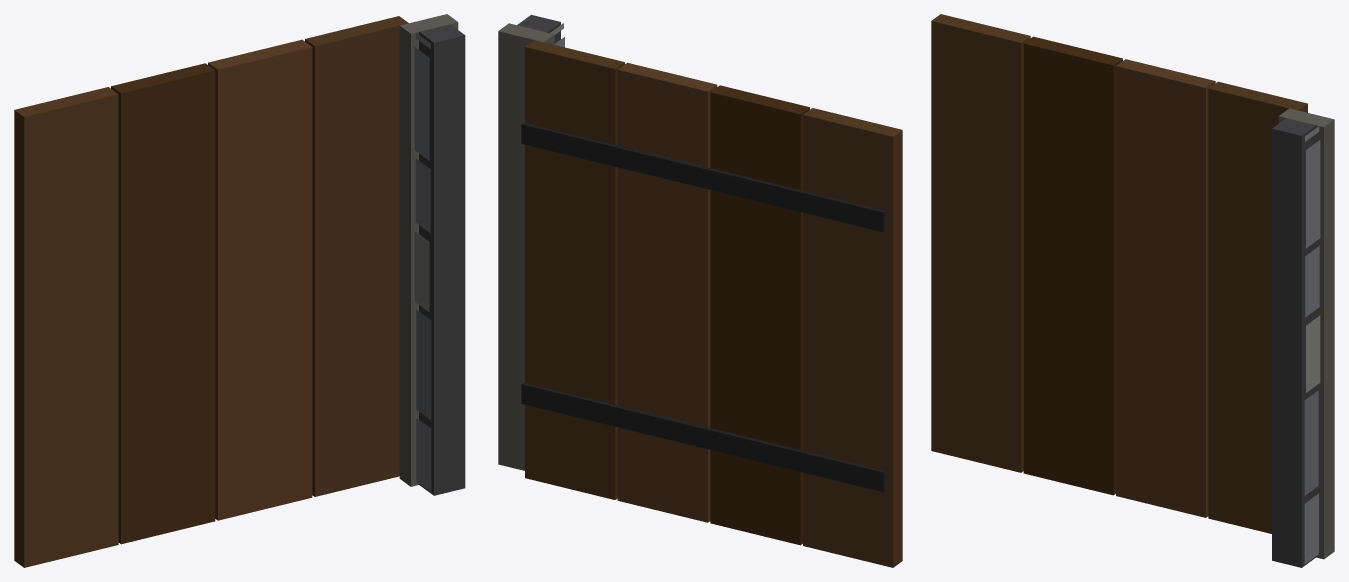
File: wall-stone-door-open-low-r.glb
The picture shows the model from 3 angles, left to right: view 1: azimuth 30°, elevation 25°; view 2: azimuth 150°, elevation 25°; view 3: azimuth 330°, elevation 25°; orthographic projection. The views are drawn at different scales.
Parts seen in each view (by area): view 1: wall-stone-door-open-low-r; view 2: wall-stone-door-open-low-r; view 3: wall-stone-door-open-low-r.
Boxes of the visible parts, x1=… form: wall-stone-door-open-low-r: x1=14, y1=14, x2=465, y2=567; wall-stone-door-open-low-r: x1=498, y1=14, x2=902, y2=567; wall-stone-door-open-low-r: x1=931, y1=14, x2=1334, y2=567.
Bounding box in the file's own units: 0.977 × 1 × 0.155.
